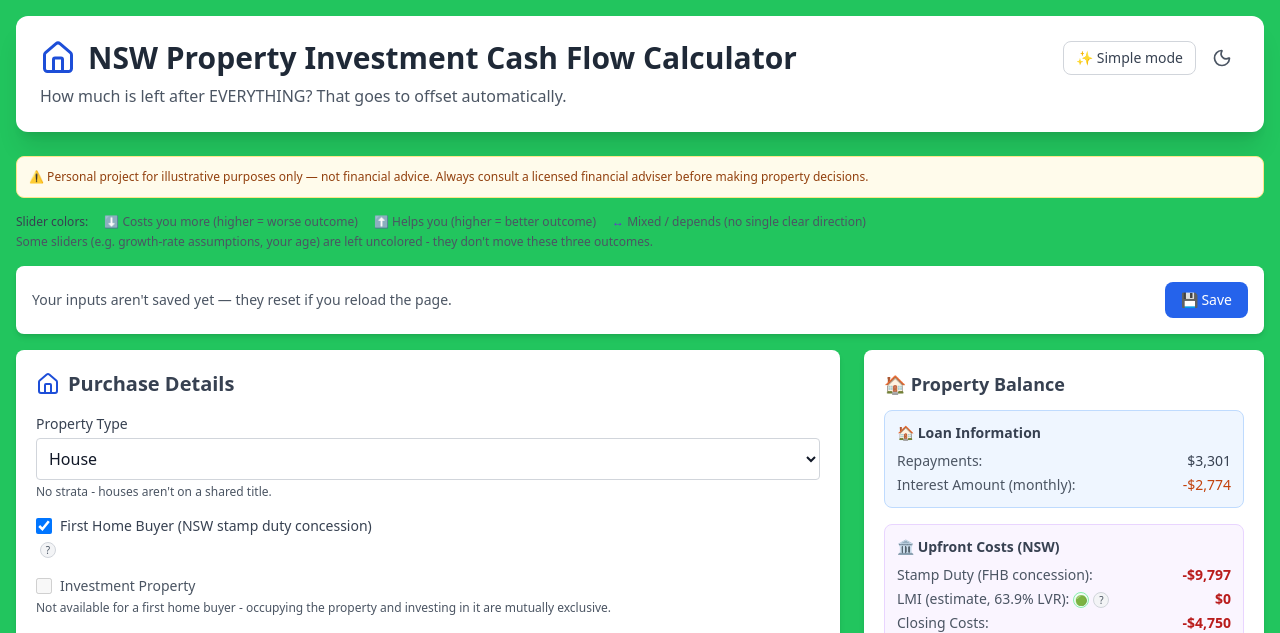
First Home Buyer / Investment Property mutual exclusion (TODO-38/44) › unchecking First Home Buyer enables Investment Property
Step 1. Click the checkbox labelled "First Home Buyer (NSW stamp duty concession)" → (44, 526), box left=36, top=518, right=52, bottom=534
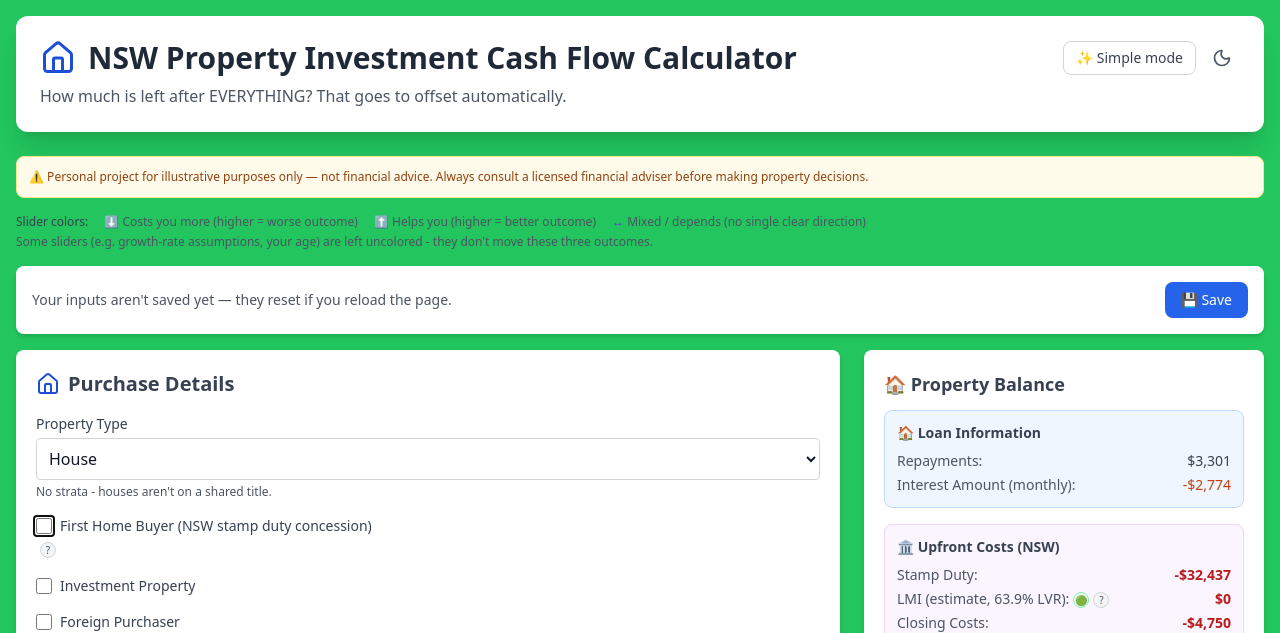
Expected: the checkbox labelled "Investment Property" is enabled, left=36, top=578, right=52, bottom=594
